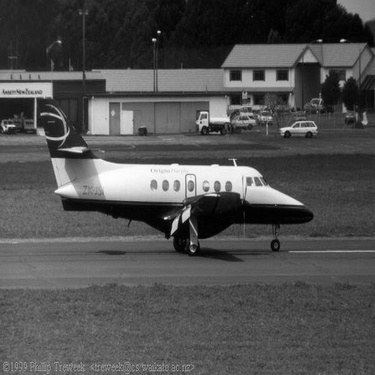airplane: (1, 87, 332, 252)
car: (250, 108, 337, 144)
